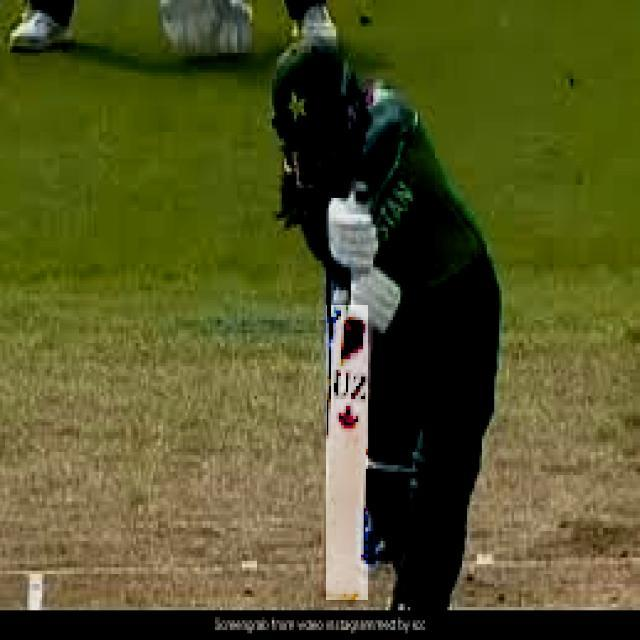bat: (329, 304, 370, 607)
toe: (325, 586, 369, 608)
